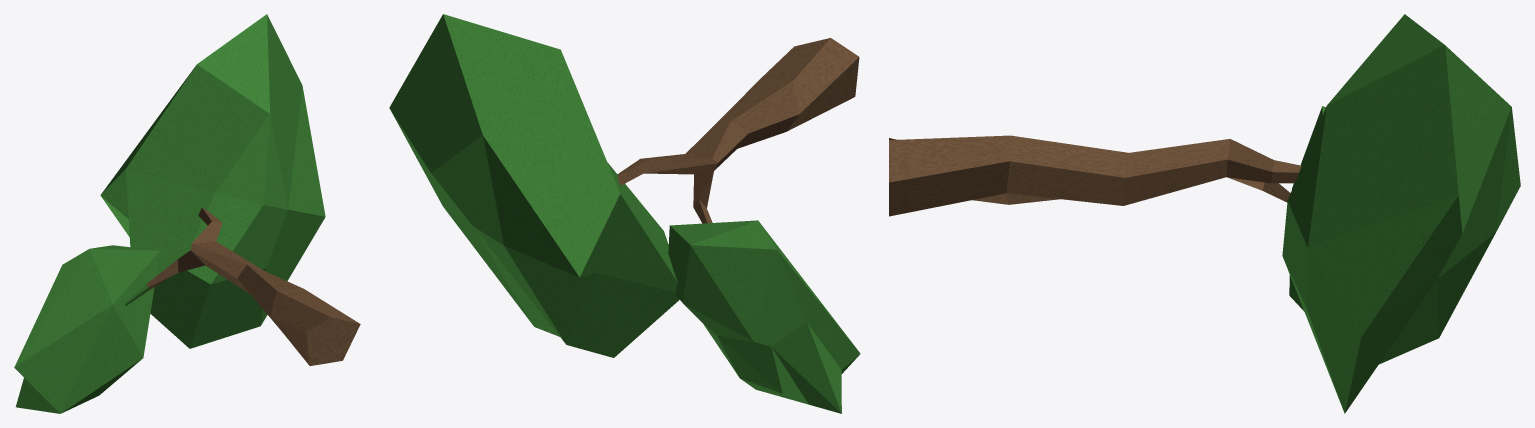
The model's file is all_share_tree_1.FBX.
The picture shows the model from 3 angles, left to right: view 1: azimuth 30°, elevation 25°; view 2: azimuth 150°, elevation 25°; view 3: azimuth 270°, elevation 25°; orthographic projection. The views are drawn at different scales.
Parts seen in each view (by area): view 1: tree_1.001; view 2: tree_1.001; view 3: tree_1.001.
Boxes of the visible parts, left/top/right/bottom form: tree_1.001: left=14, top=14, right=360, bottom=413; tree_1.001: left=389, top=14, right=860, bottom=413; tree_1.001: left=889, top=14, right=1520, bottom=413.
Size of the model in its own units: 151 by 126 by 169.
